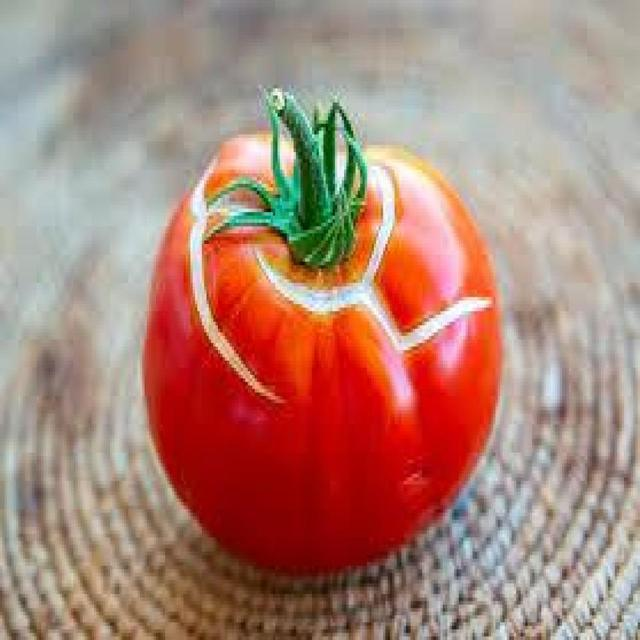Cracking Fruit: (64, 146, 242, 182)
